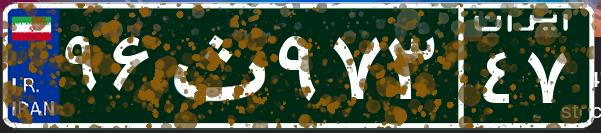3: (385, 28, 445, 110)
4: (475, 38, 525, 113)
6: (110, 28, 158, 105)
7: (330, 28, 385, 110), (525, 38, 570, 115)
9: (273, 28, 330, 110), (57, 26, 110, 107)
ث: (158, 15, 273, 115)
